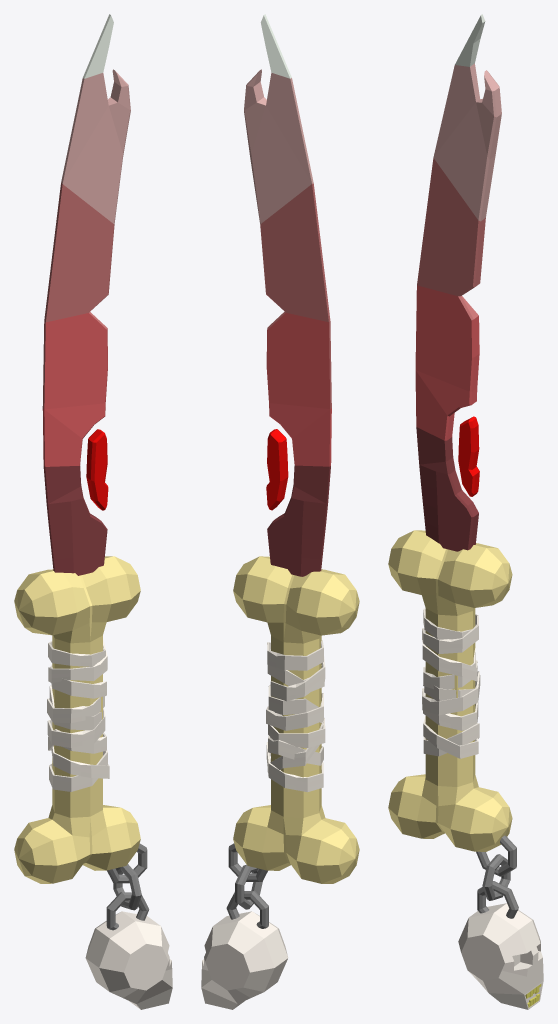
The model's file is Demon Sword.fbx.
The picture shows the model from 3 angles, left to right: view 1: azimuth 30°, elevation 25°; view 2: azimuth 150°, elevation 25°; view 3: azimuth 330°, elevation 25°; orthographic projection.
Visible parts, largest first — view 1: Plane, Circle, Circle.009, Sphere, Torus; view 2: Plane, Circle, Circle.009, Sphere, Torus; view 3: Plane, Circle, Sphere, Circle.009, Torus.
Part boxes in pixels (left/top/right/bottom): Plane: left=42, top=14, right=130, bottom=575; Circle: left=14, top=556, right=140, bottom=883; Circle.009: left=47, top=639, right=109, bottom=791; Sphere: left=85, top=911, right=172, bottom=1009; Torus: left=106, top=843, right=149, bottom=930; Plane: left=244, top=14, right=331, bottom=576; Circle: left=233, top=556, right=359, bottom=883; Circle.009: left=266, top=640, right=325, bottom=792; Sphere: left=201, top=911, right=288, bottom=1009; Torus: left=226, top=843, right=268, bottom=928; Plane: left=415, top=14, right=501, bottom=551; Circle: left=388, top=530, right=512, bottom=851; Sphere: left=458, top=903, right=543, bottom=1009; Circle.009: left=422, top=608, right=480, bottom=758; Torus: left=476, top=835, right=518, bottom=918.
Bounding box in the file's own units: 529 × 3450 × 223.
